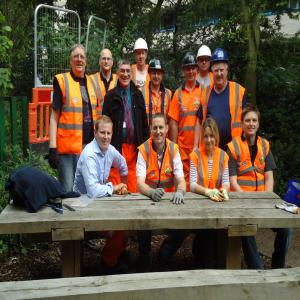blue: (210, 49, 231, 86), (147, 57, 167, 89), (181, 52, 200, 83)
none: (93, 113, 116, 150), (241, 103, 261, 139), (149, 113, 170, 147), (200, 119, 220, 152), (69, 45, 88, 78), (117, 60, 134, 88), (99, 48, 114, 75)
white: (196, 46, 213, 74), (134, 38, 150, 67)
